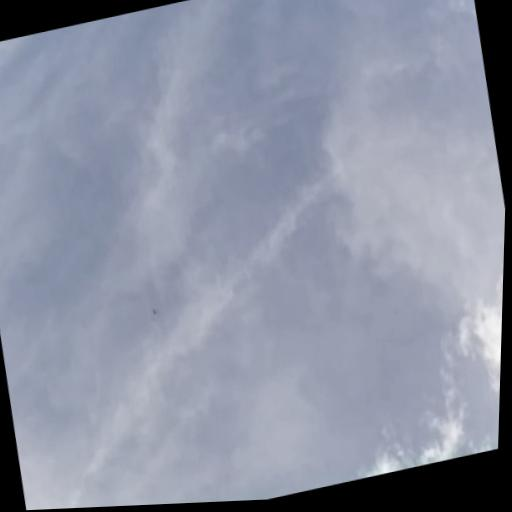drones: (145, 300, 165, 323)
